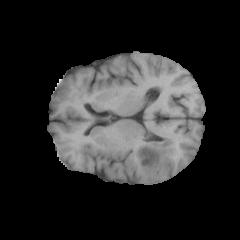glioma: (134, 137, 176, 174)
